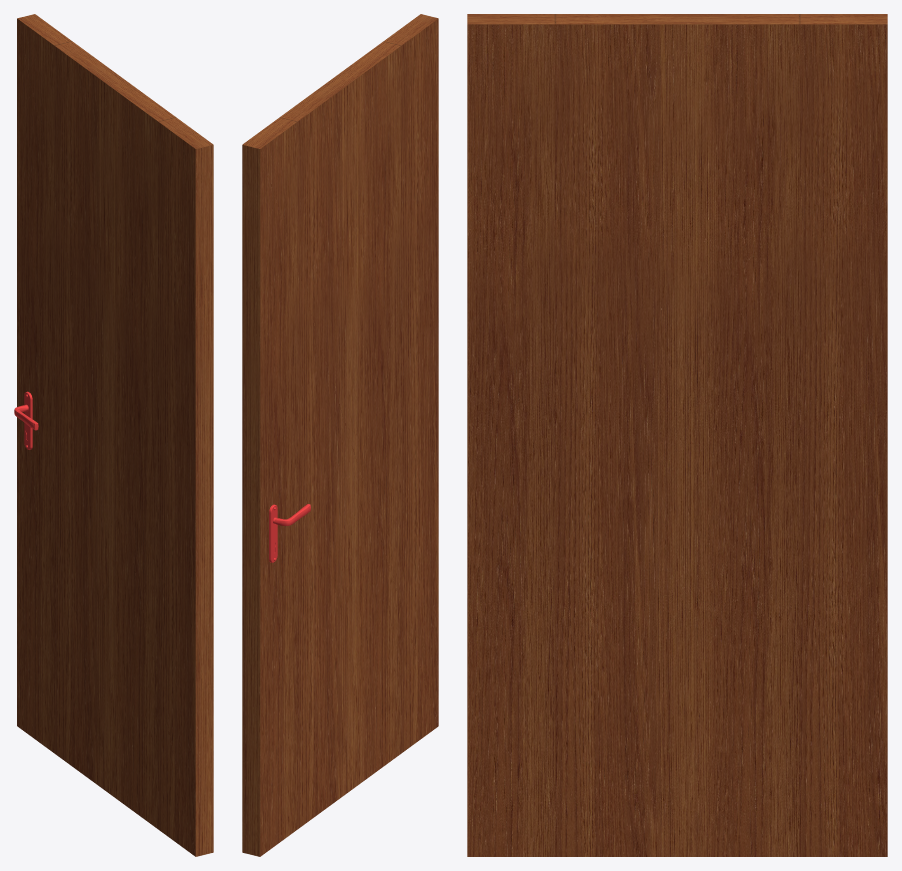
Rendered from door01.FBX.
The picture shows the model from 3 angles, left to right: view 1: azimuth 30°, elevation 25°; view 2: azimuth 150°, elevation 25°; view 3: azimuth 270°, elevation 25°; orthographic projection. The views are drawn at different scales.
Visible parts, largest first — view 1: door01; view 2: door01; view 3: door01.
Boxes of the visible parts, x1,y1,x2,y2 form: door01: (14,14,213,856); door01: (242,14,438,856); door01: (467,14,887,856).
Bounding box in the file's own units: 97.75 × 1880 × 860.
